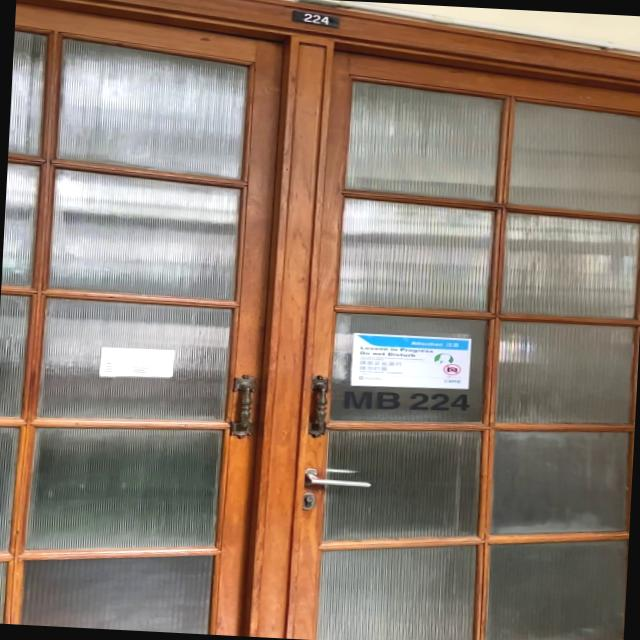room224: (289, 10, 343, 30)
room224Window: (338, 386, 473, 416)
